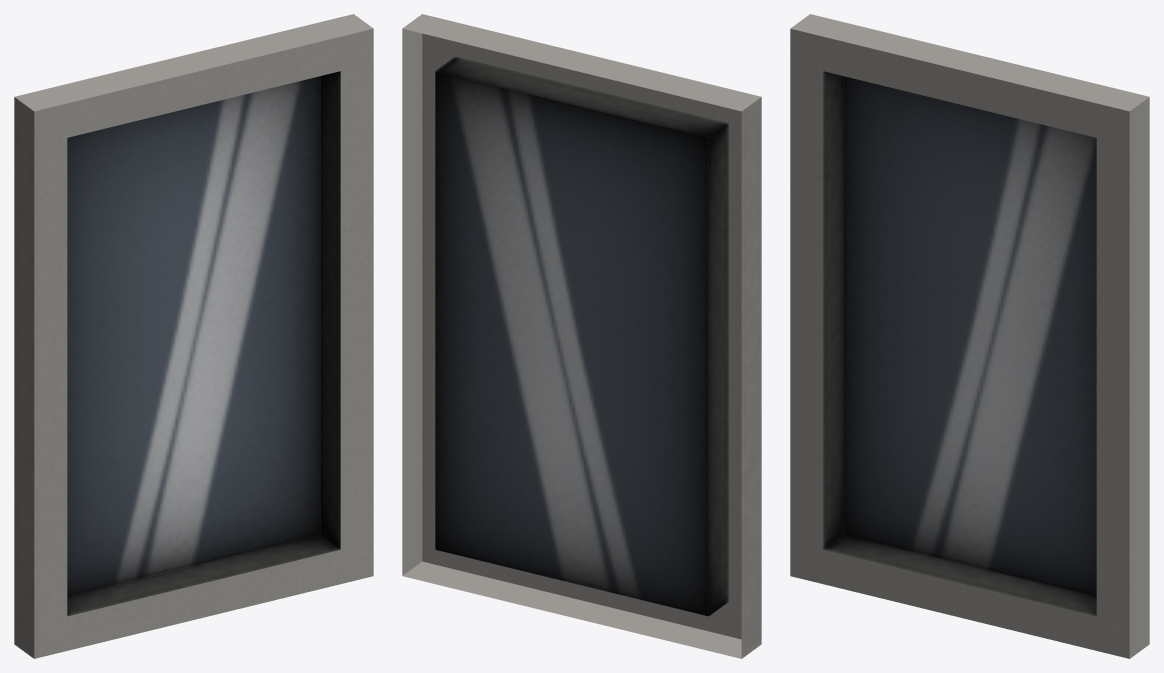
Rendered from Prop_Raam.FBX.
The picture shows the model from 3 angles, left to right: view 1: azimuth 30°, elevation 25°; view 2: azimuth 150°, elevation 25°; view 3: azimuth 330°, elevation 25°; orthographic projection.
Parts seen in each view (by area): view 1: Object001; view 2: Object001; view 3: Object001.
Boxes of the visible parts, left/top/right/bottom form: Object001: left=14, top=14, right=373, bottom=658; Object001: left=402, top=14, right=761, bottom=658; Object001: left=790, top=14, right=1149, bottom=658.
Bounding box in the file's own units: 105 × 162 × 10.74.
